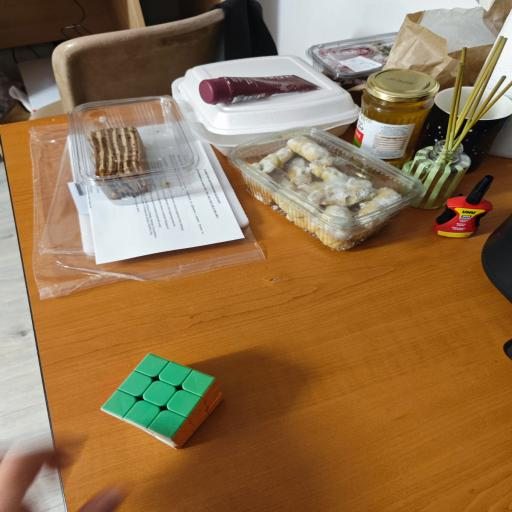Crema Maini: (197, 72, 322, 106)
Rubiks Cube: (98, 351, 224, 451)
Super Glue: (426, 174, 495, 239)
